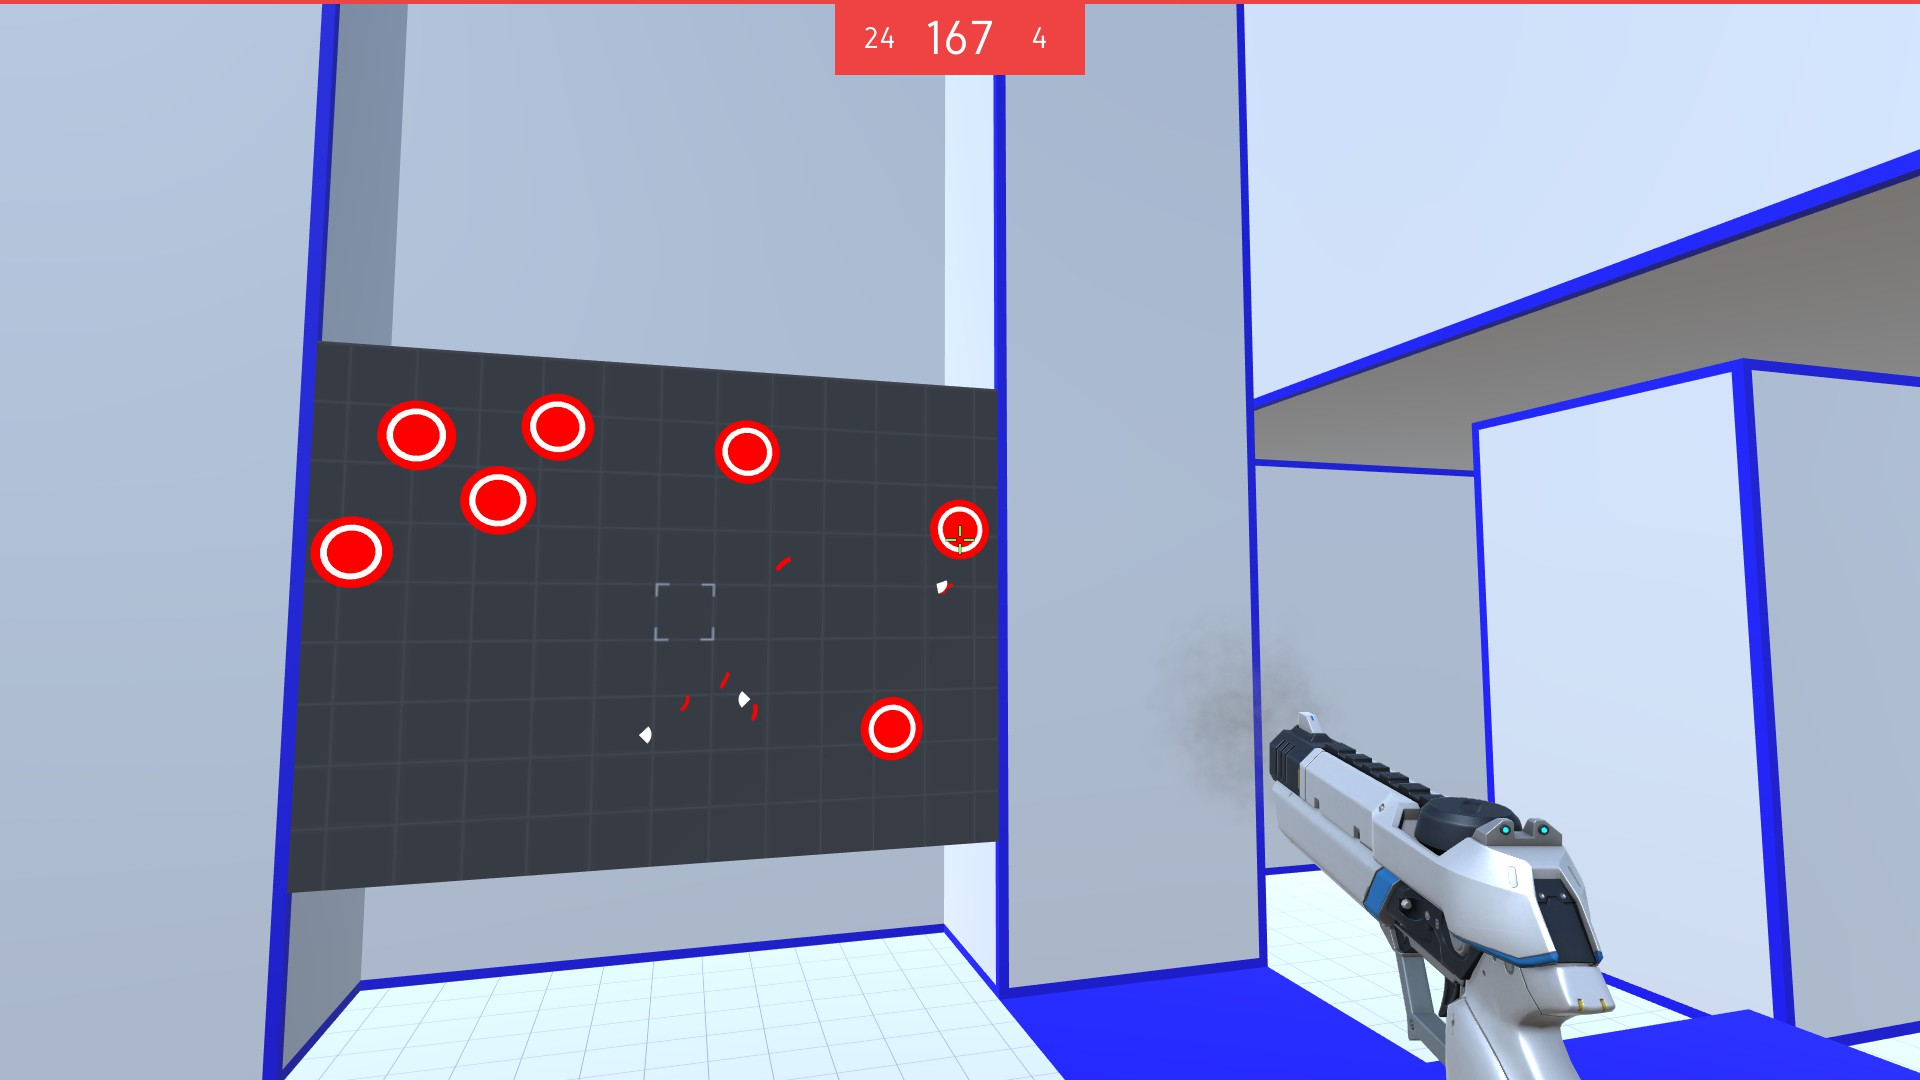target: (313, 506, 392, 592), (462, 458, 539, 543), (375, 400, 458, 479), (520, 390, 599, 469), (713, 415, 785, 488), (857, 694, 924, 762), (927, 498, 989, 562)
